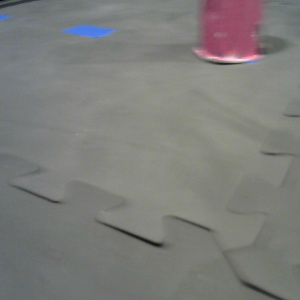Right: (192, 1, 265, 63)
